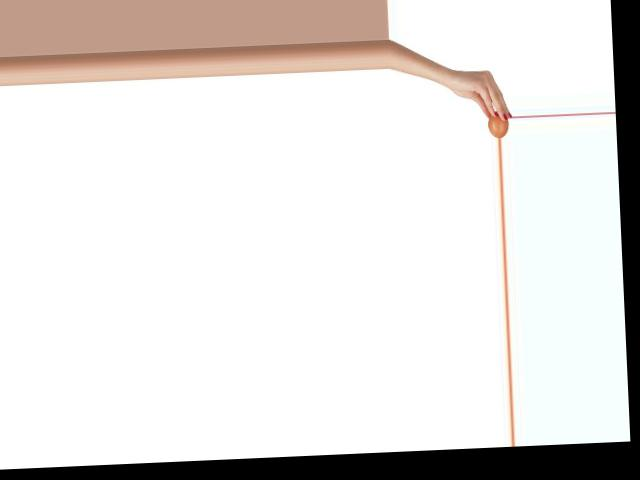egg: (487, 111, 508, 137)
